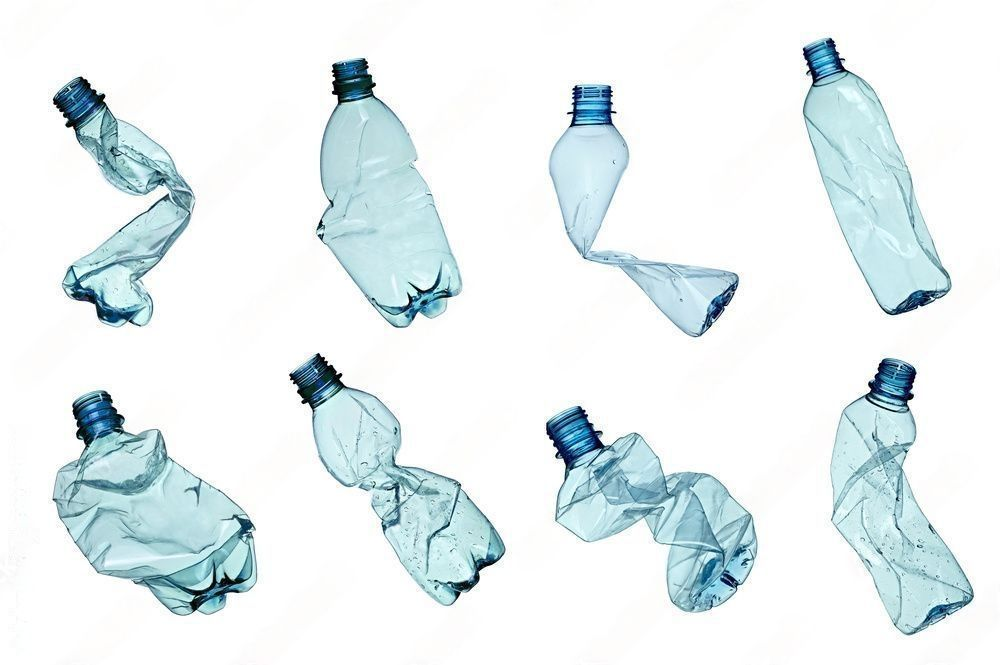plastic_bottle: (288, 356, 508, 605), (550, 82, 742, 345), (50, 387, 262, 617), (544, 404, 762, 616), (800, 34, 953, 318), (827, 354, 979, 636), (316, 55, 468, 331), (52, 72, 191, 326)
